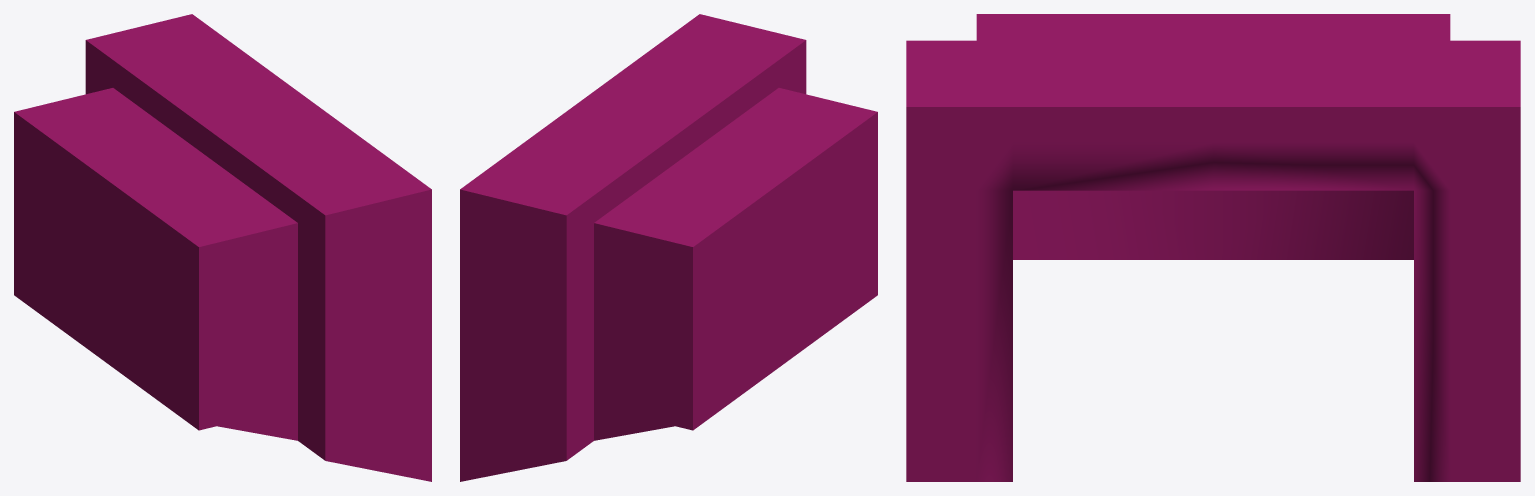
File: Grave.fbx
3 renders of one model, left to right at view 1: azimuth 30°, elevation 25°; view 2: azimuth 150°, elevation 25°; view 3: azimuth 270°, elevation 25°, orthographic. The views are drawn at different scales.
Visible parts, largest first — view 1: Grave; view 2: Grave; view 3: Grave.
Part boxes in pixels (bbox=[...]): Grave: bbox=[14, 14, 431, 481]; Grave: bbox=[460, 14, 877, 481]; Grave: bbox=[906, 14, 1520, 481].
Size of the model in its own units: 5.04 by 6.85 by 10.18.
